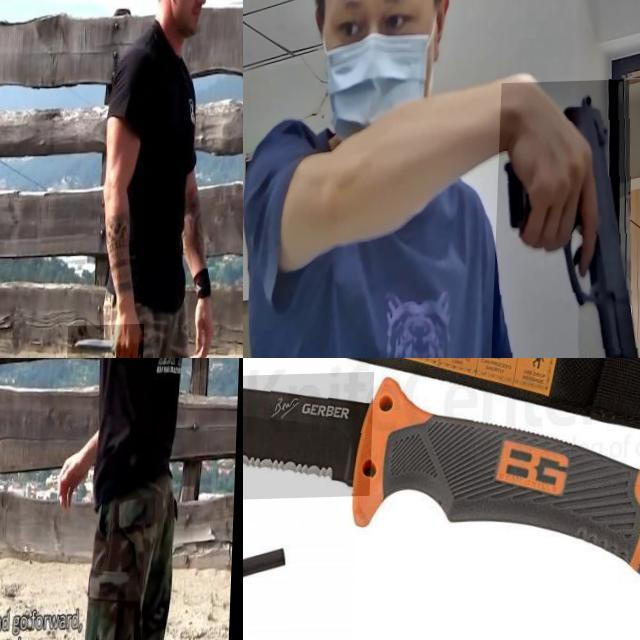-: (243, 373, 376, 503), (0, 472, 32, 585), (70, 325, 147, 358)
gun-knife-thesis - v11 Yolov5 augmented: (494, 82, 640, 358)
